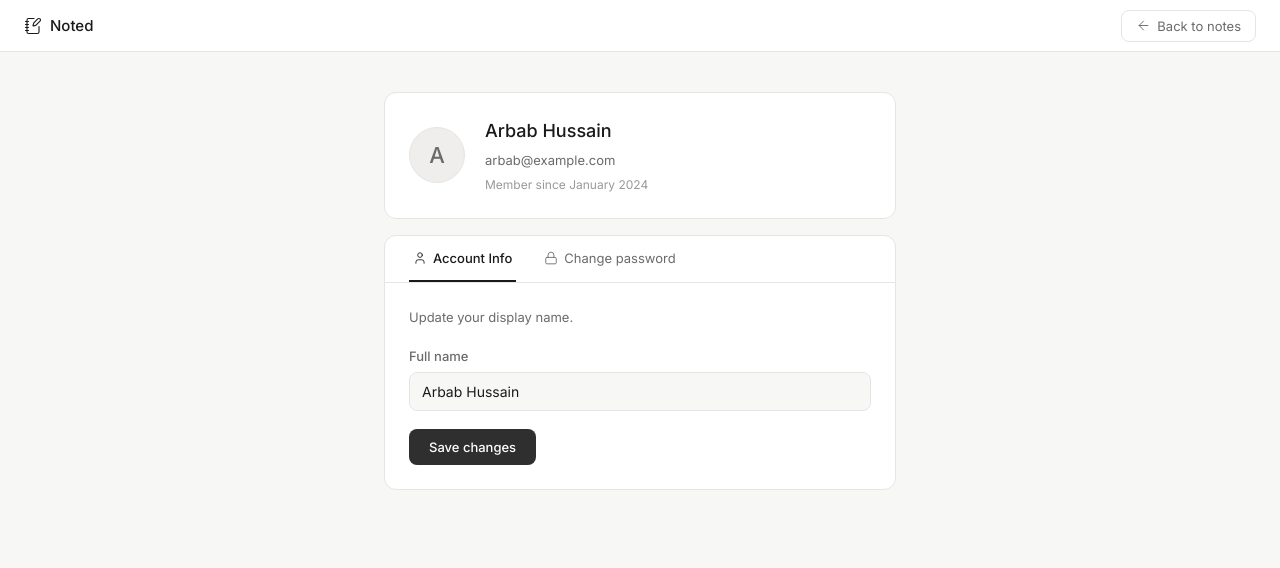
Test: Profile Page › should show success message after name update
Expected: the heading "Arbab Hussain" is shown, [485,120,612,141]
Replace the text in the field showing "Arbab Hussain" with "New Name": (640, 392) [409,372,871,411]
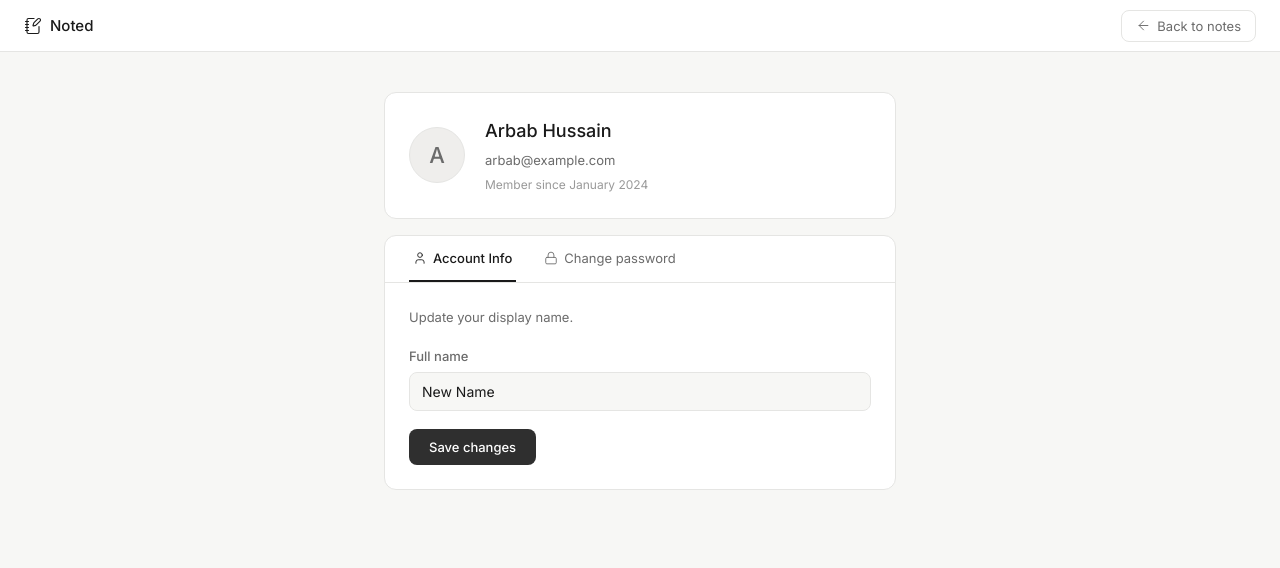
Click the button "Save changes": (473, 447) [409,429,536,465]
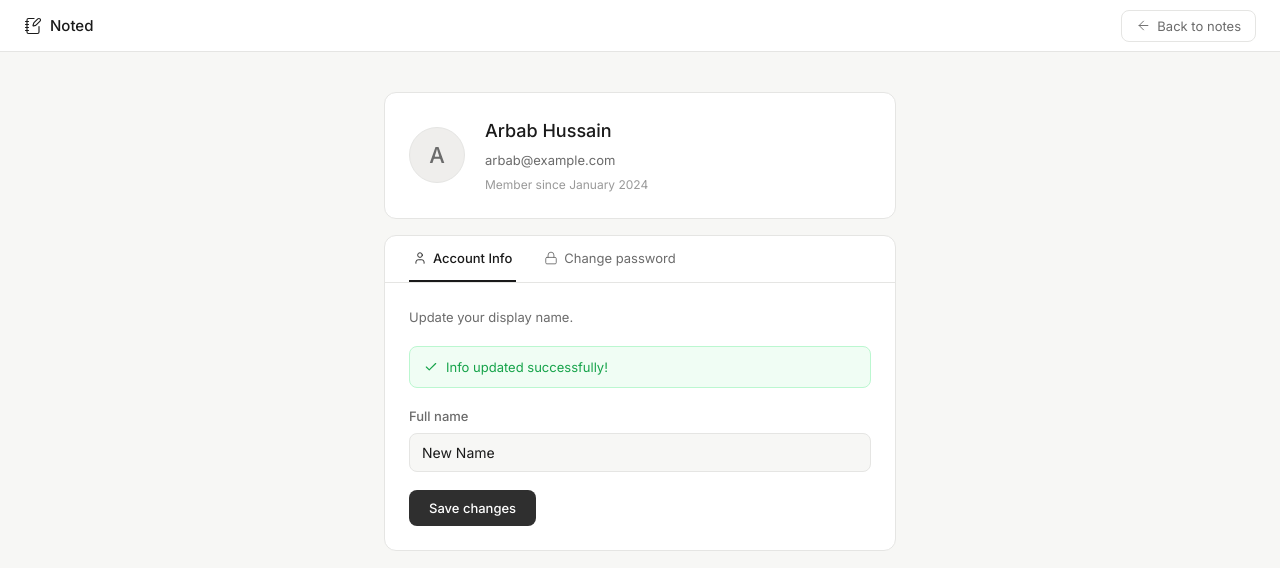
Now the text "Info updated successfully!" is shown, box [409,346,871,388]
